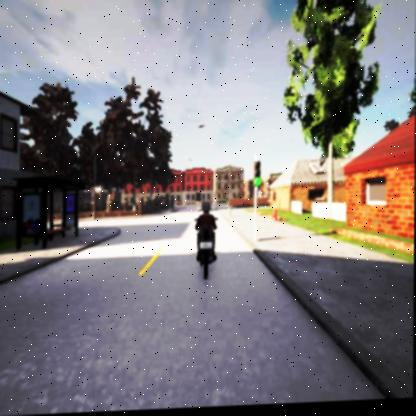motobike: (194, 201, 219, 282)
